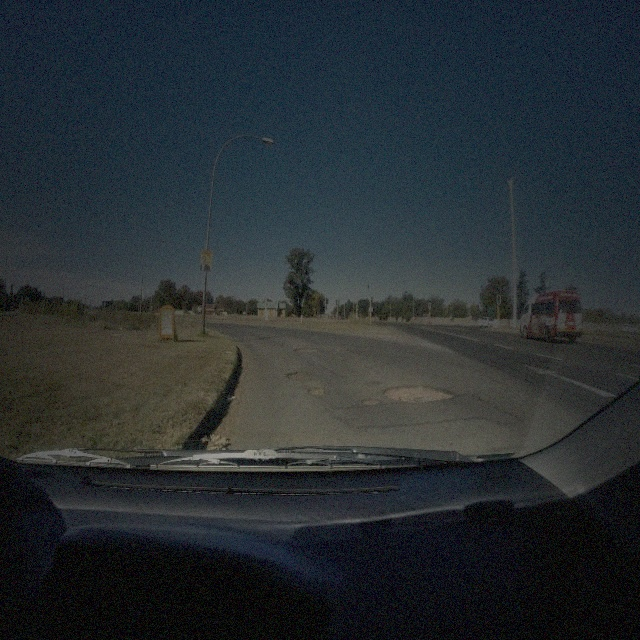pothole: (382, 382, 451, 404), (284, 366, 310, 380), (360, 395, 382, 409), (306, 382, 324, 399), (293, 344, 317, 354)
